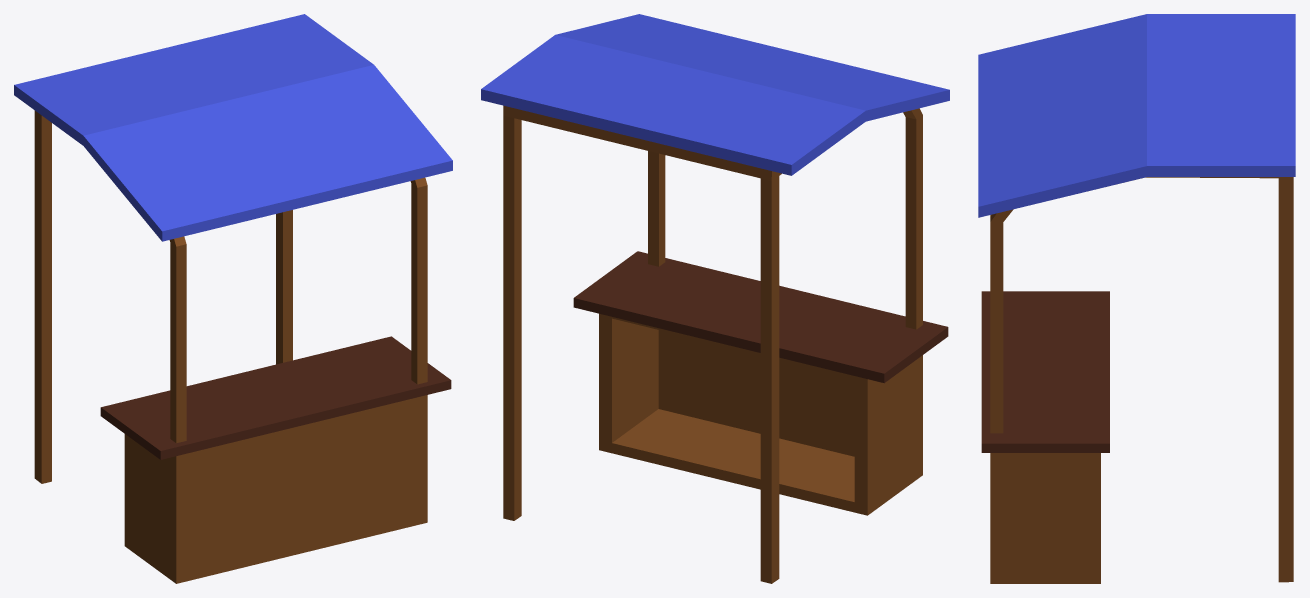
Rendered from stall.fbx.
3 renders of one model, left to right at view 1: azimuth 30°, elevation 25°; view 2: azimuth 150°, elevation 25°; view 3: azimuth 270°, elevation 25°, orthographic. The views are drawn at different scales.
Parts seen in each view (by area): view 1: Stall; view 2: Stall; view 3: Stall.
Boxes of the visible parts, x1,y1,x2,y2 form: Stall: (14,14,452,583); Stall: (481,14,949,583); Stall: (978,14,1295,583).
Bounding box in the file's own units: 200 × 177 × 263.
